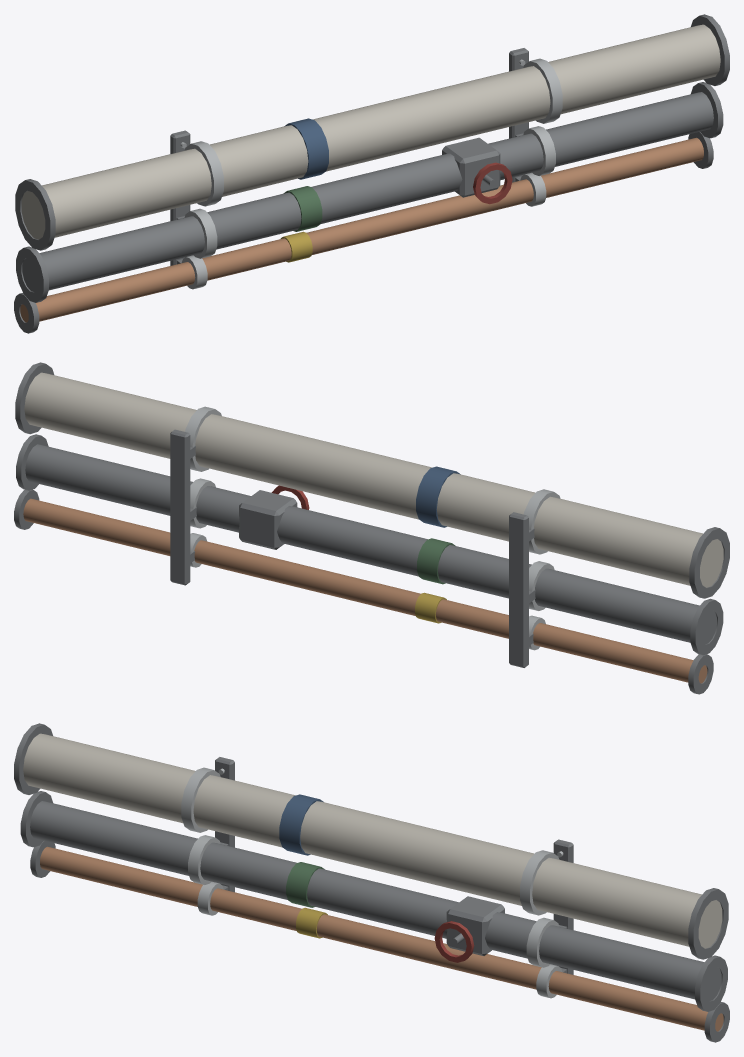
File: astro_pipe_run_straight.fbx
3 renders of one model, top to bottom at view 1: azimuth 30°, elevation 25°; view 2: azimuth 150°, elevation 25°; view 3: azimuth 330°, elevation 25°, orthographic.
Parts seen in each view (by area): view 1: PipeRunStraight_Body; view 2: PipeRunStraight_Body; view 3: PipeRunStraight_Body.
Part boxes in pixels (<box>): PipeRunStraight_Body: <box>14,14,729,333</box>; PipeRunStraight_Body: <box>14,362,729,694</box>; PipeRunStraight_Body: <box>14,723,729,1042</box>.
Bounding box in the file's own units: 401 × 90 × 46.25.
